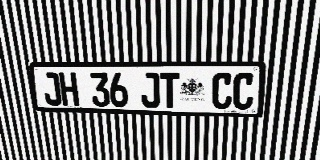3: (90, 72, 110, 107)
6: (108, 72, 128, 107)
C: (232, 72, 255, 110), (211, 72, 233, 109)
H: (58, 72, 79, 106)
J: (140, 72, 160, 108), (41, 72, 62, 106)
T: (160, 72, 179, 108)
